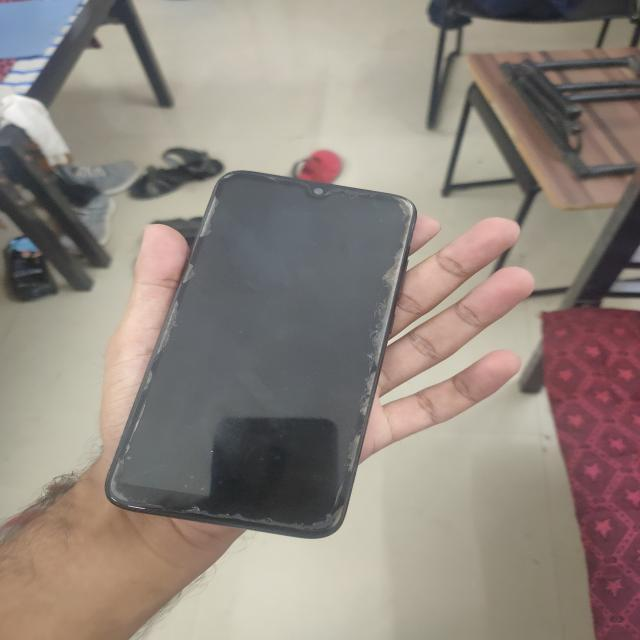Phone: (104, 167, 420, 548)
